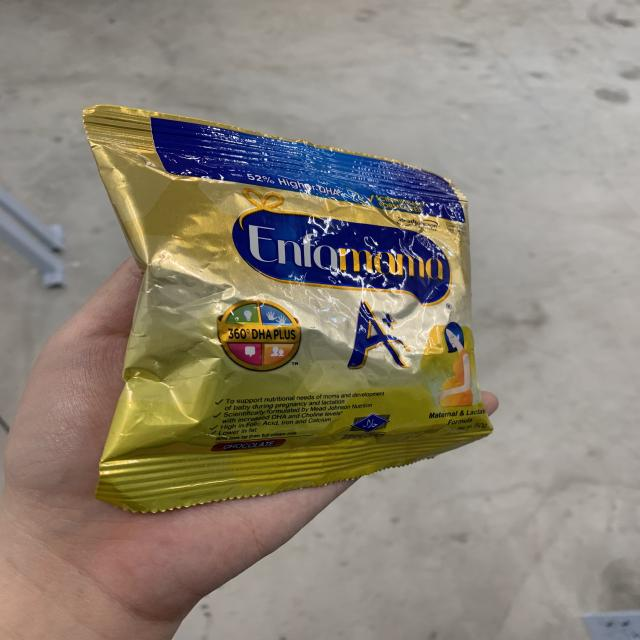object_name: (105, 118, 480, 456)
